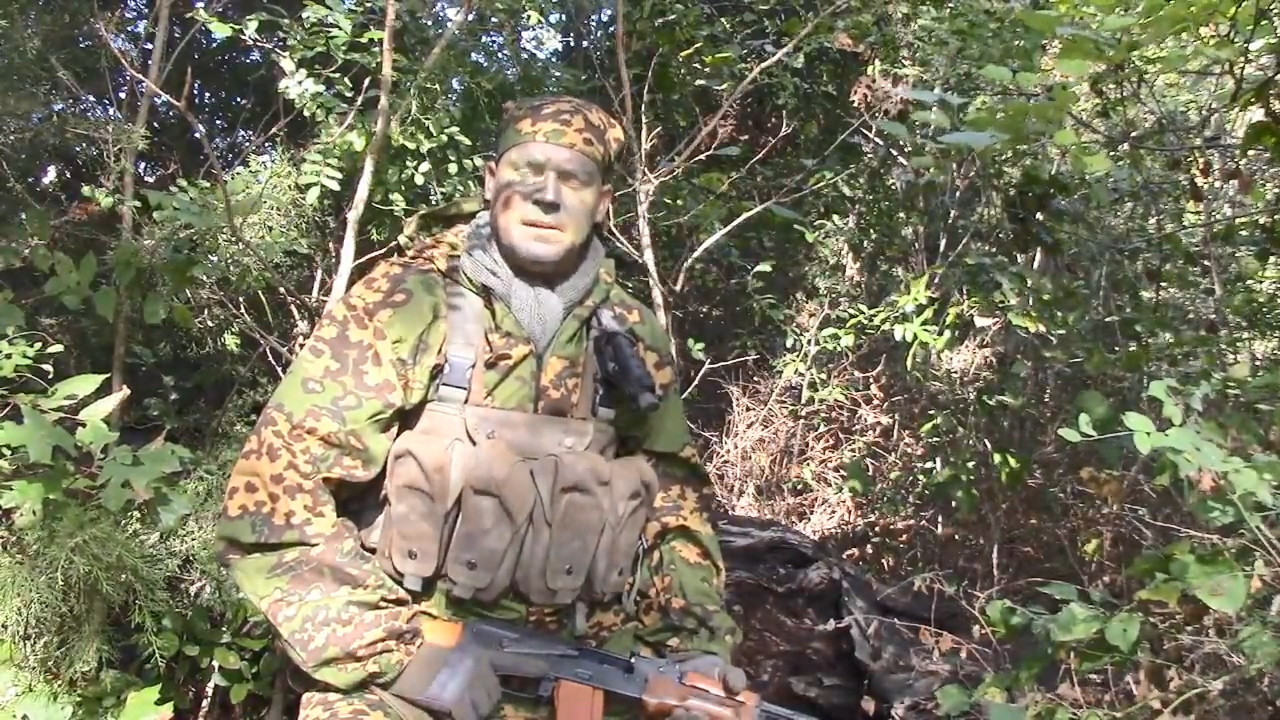person: (193, 76, 777, 713)
